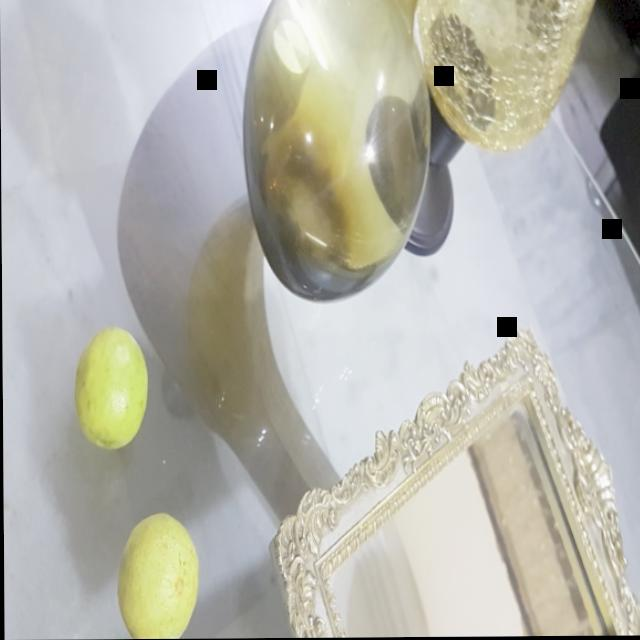lemon: (105, 509, 209, 639), (56, 328, 155, 456)
